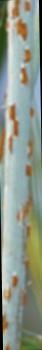Wheat: (8, 2, 36, 85), (7, 101, 30, 181), (5, 273, 23, 350)
